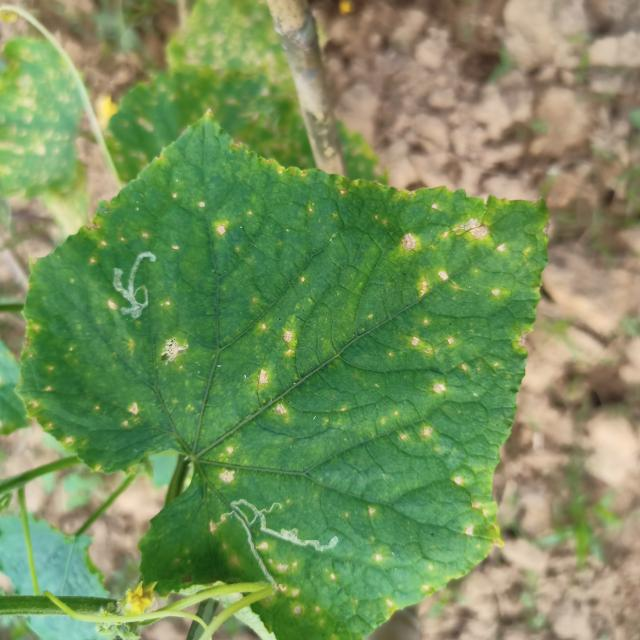disease_cucumber: (372, 190, 555, 538), (21, 210, 226, 438), (198, 445, 450, 630), (230, 277, 376, 446)
